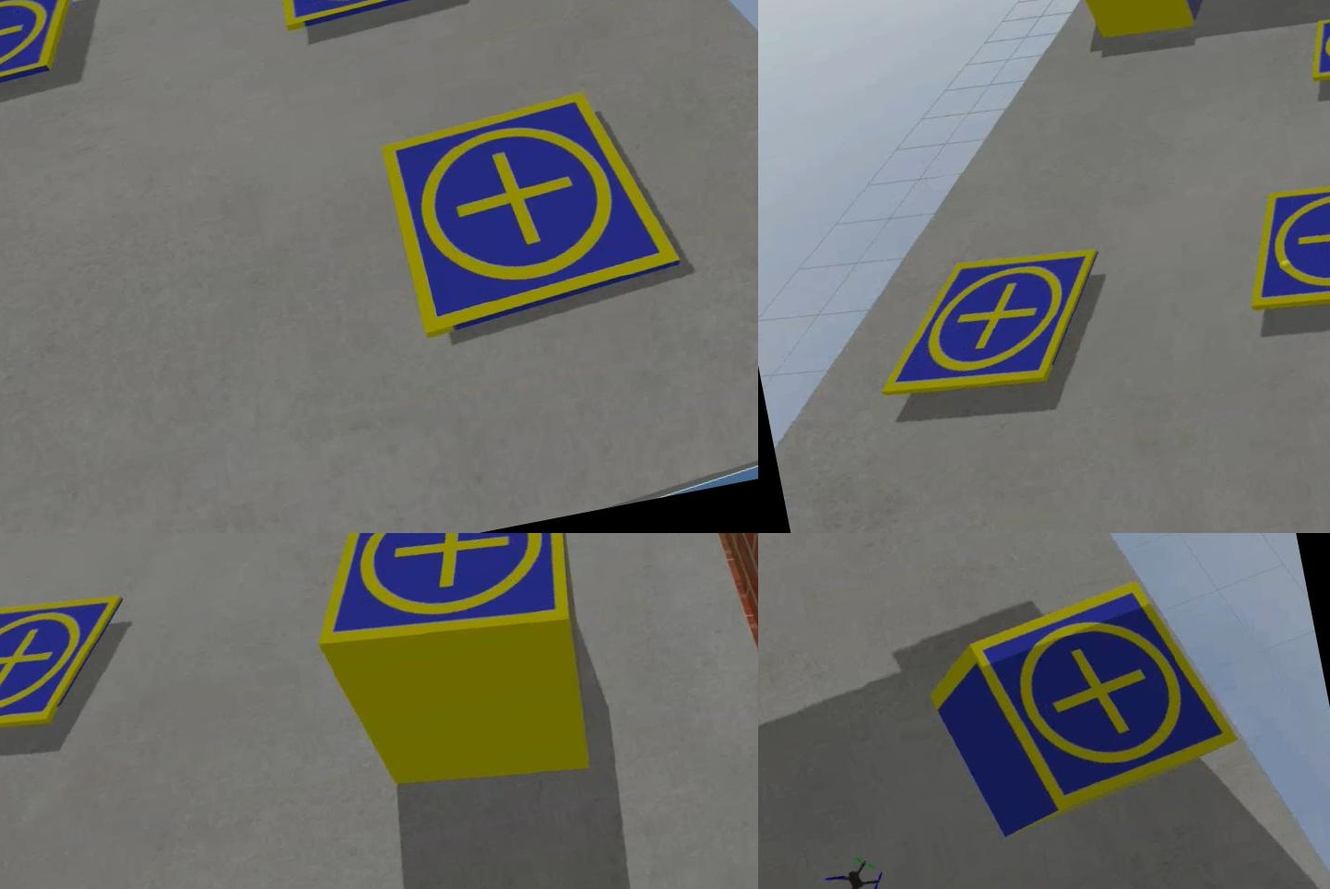small_base: (370, 76, 689, 354), (956, 564, 1249, 830), (861, 236, 1115, 411), (291, 534, 587, 670), (0, 580, 142, 750), (1229, 168, 1328, 336), (0, 1, 92, 121), (264, 1, 452, 37), (1299, 1, 1328, 88)
